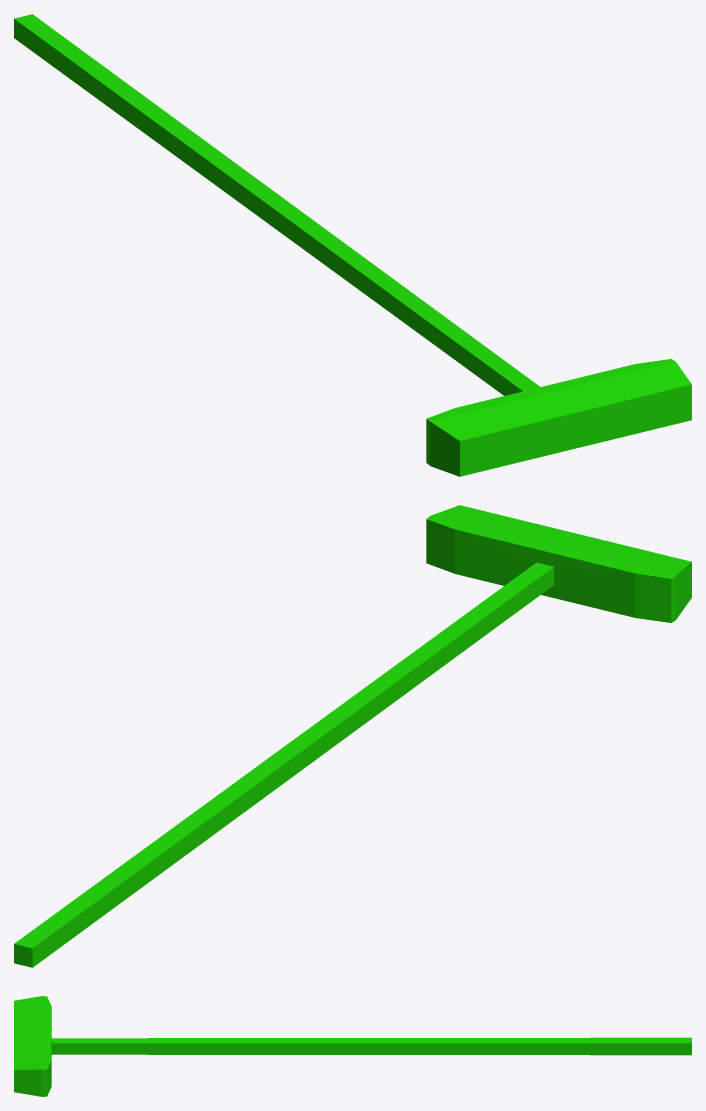
File: SM_Mop_01_Collider.fbx
The picture shows the model from 3 angles, top to bottom: view 1: azimuth 30°, elevation 25°; view 2: azimuth 150°, elevation 25°; view 3: azimuth 270°, elevation 25°; orthographic projection. The views are drawn at different scales.
Parts seen in each view (by area): view 1: SM_Mop_01_Collider; view 2: SM_Mop_01_Collider; view 3: SM_Mop_01_Collider.
Boxes of the visible parts, x1,y1,x2,y2 form: SM_Mop_01_Collider: [14, 14, 691, 476]; SM_Mop_01_Collider: [14, 505, 691, 967]; SM_Mop_01_Collider: [14, 996, 691, 1096].
Bounding box in the file's own units: 61.68 × 10.71 × 241.
